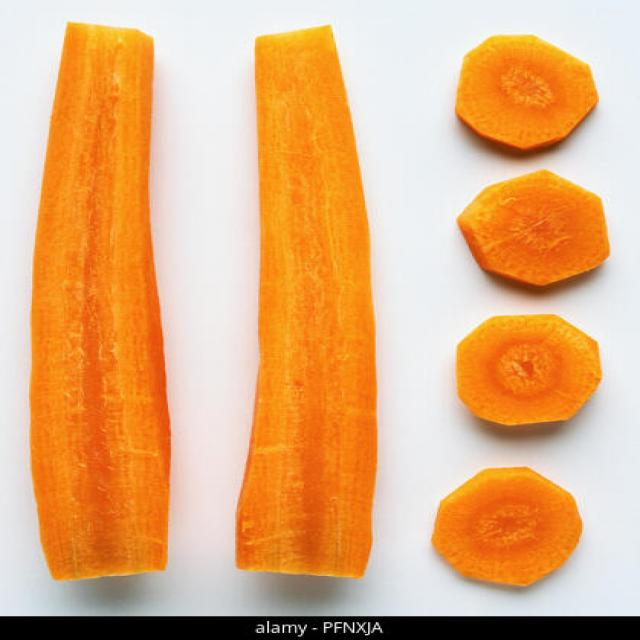carrot: (31, 23, 170, 581), (237, 25, 377, 579), (458, 169, 611, 285), (434, 469, 583, 586), (457, 36, 599, 149), (460, 316, 602, 425)
